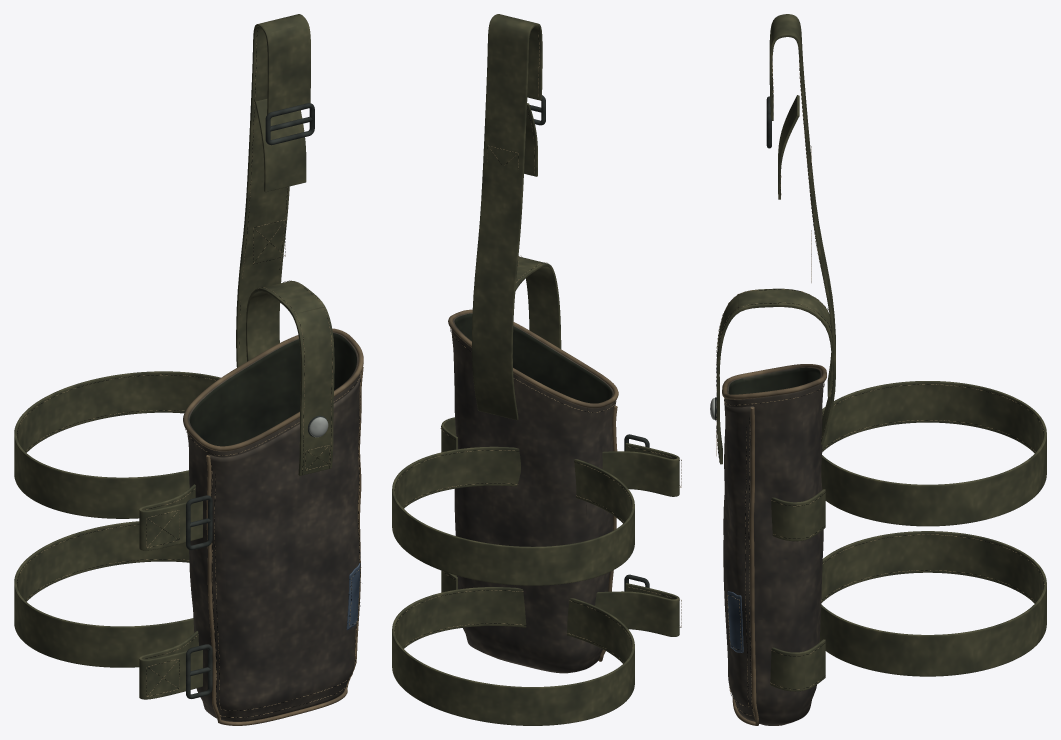
The model's file is SM_CHALK_PistolHolster01.fbx.
The picture shows the model from 3 angles, left to right: view 1: azimuth 30°, elevation 25°; view 2: azimuth 150°, elevation 25°; view 3: azimuth 270°, elevation 25°; orthographic projection. The views are drawn at different scales.
Visible parts, largest first — view 1: SM_CHALK_PistolHolster01; view 2: SM_CHALK_PistolHolster01; view 3: SM_CHALK_PistolHolster01.
Part boxes in pixels (x1,y1,x2,y2): SM_CHALK_PistolHolster01: (14,14,363,725); SM_CHALK_PistolHolster01: (392,14,681,725); SM_CHALK_PistolHolster01: (710,14,1046,725).
Size of the model in its own units: 20.4 by 23.16 by 52.25.
